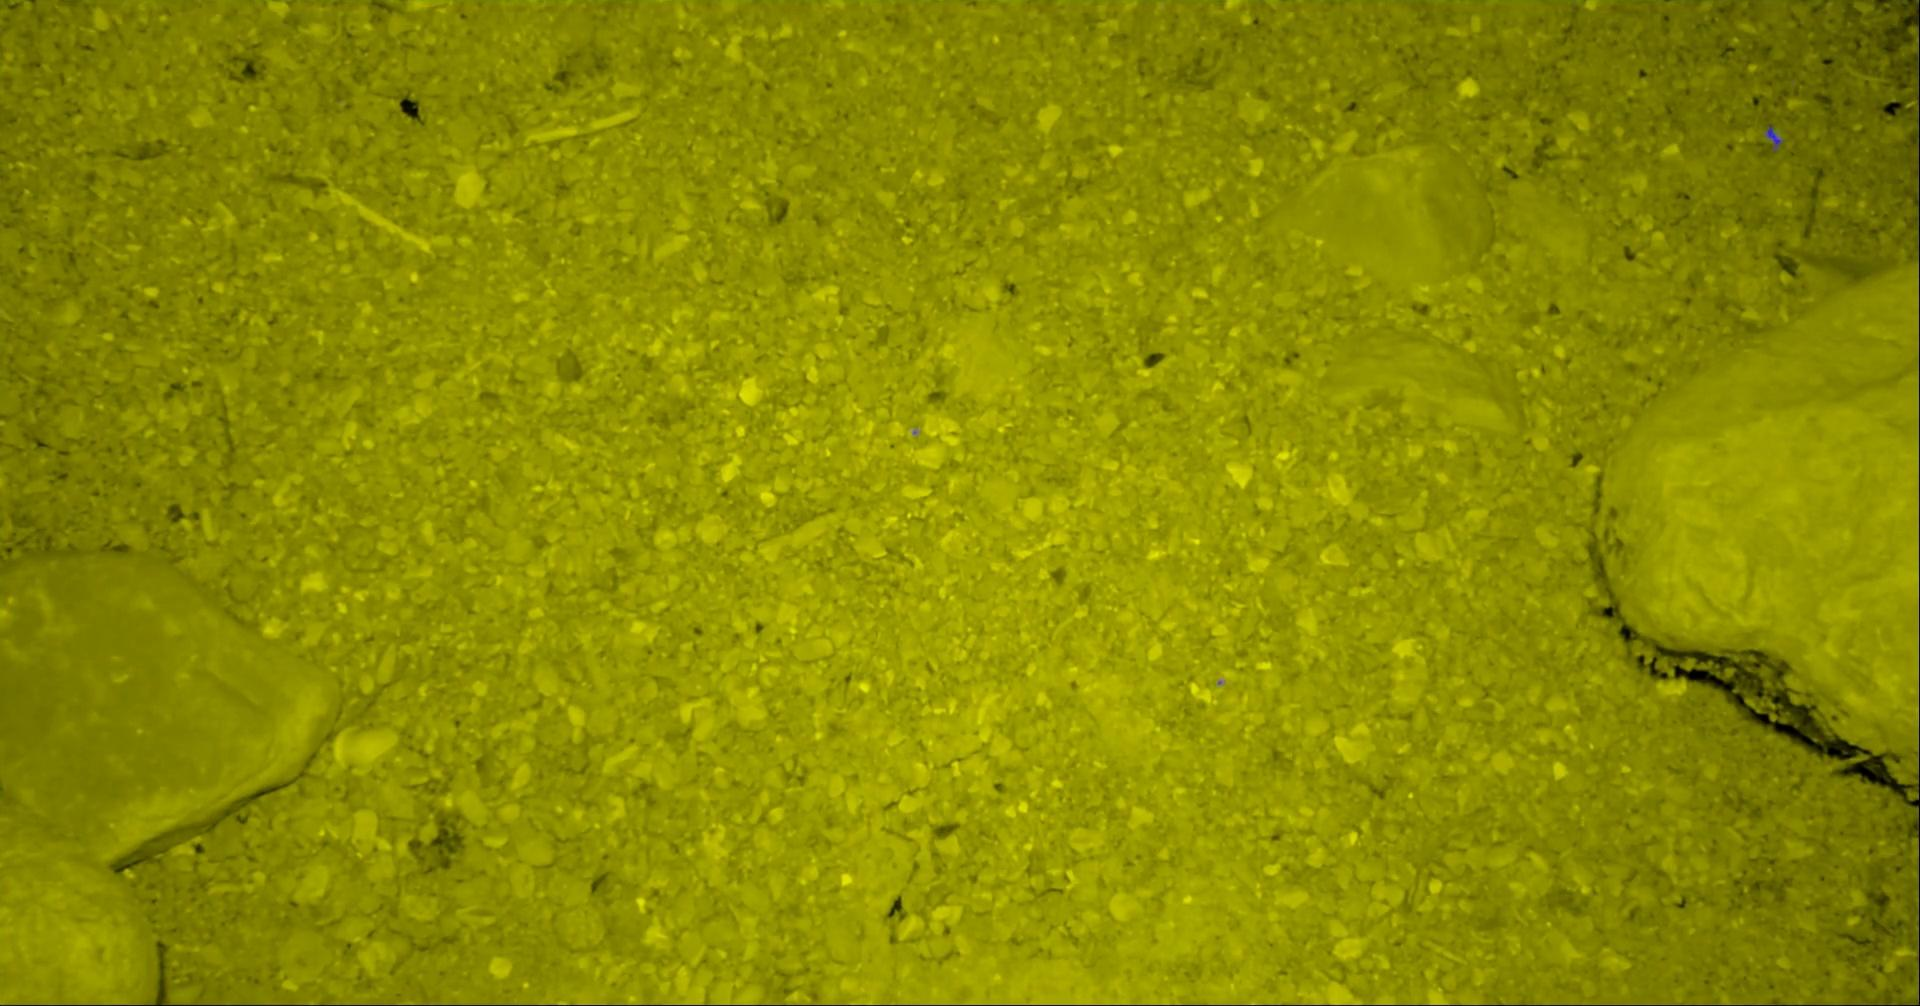ant: (1765, 124, 1782, 151), (1917, 100, 1919, 201)
